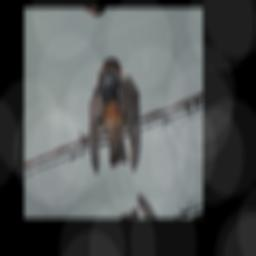Swallow: (73, 49, 154, 190)
